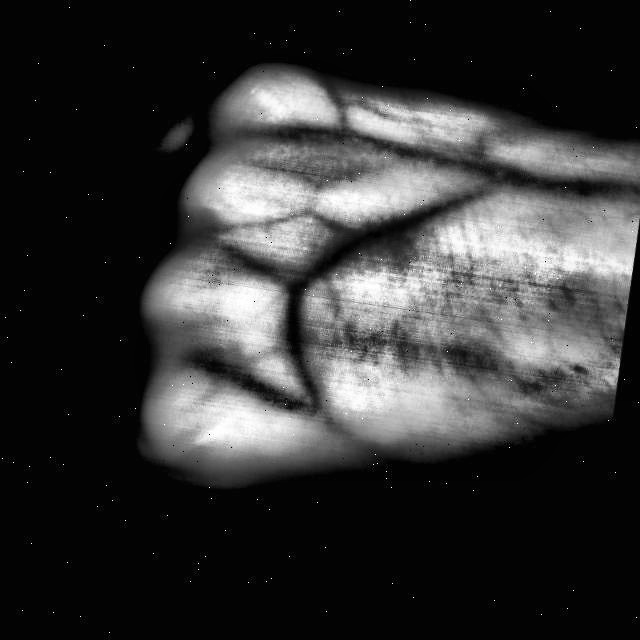Vein: (337, 114, 592, 212)
